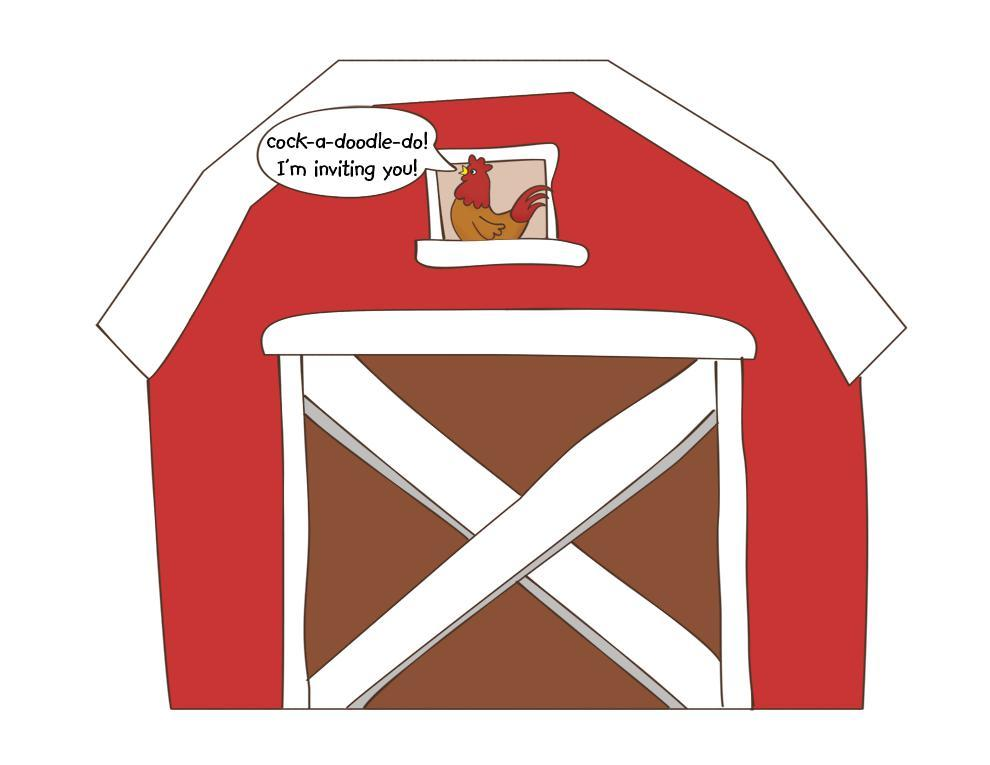bird: (434, 148, 555, 245)
